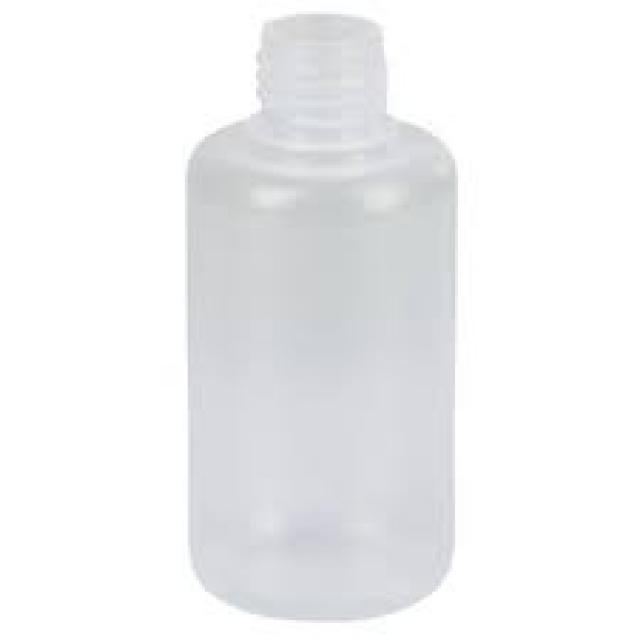Plastic: (184, 14, 456, 624)
